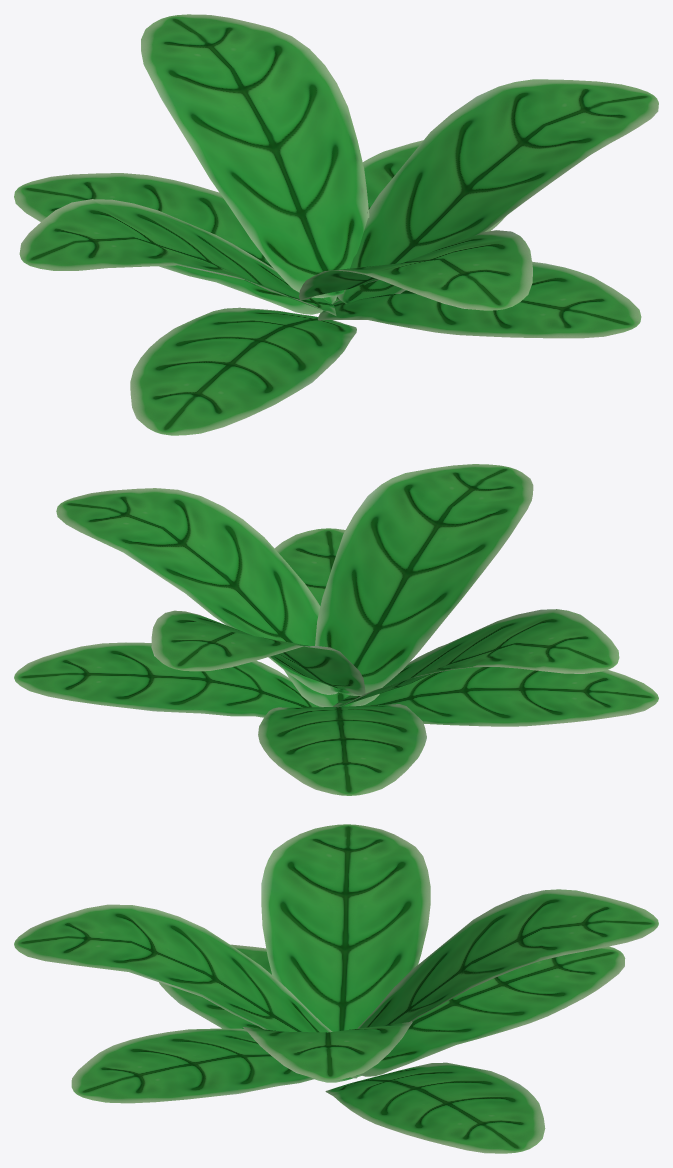
Rendered from Matojo3.fbx.
3 renders of one model, top to bottom at view 1: azimuth 30°, elevation 25°; view 2: azimuth 150°, elevation 25°; view 3: azimuth 270°, elevation 25°, orthographic. The views are drawn at different scales.
Parts seen in each view (by area): view 1: Matojo3; view 2: Matojo3; view 3: Matojo3.
Boxes of the visible parts, left/top/right/bottom form: Matojo3: left=14, top=14, right=658, bottom=435; Matojo3: left=14, top=464, right=658, bottom=795; Matojo3: left=14, top=824, right=658, bottom=1153.
Size of the model in its own units: 84.83 by 23.38 by 83.49.
